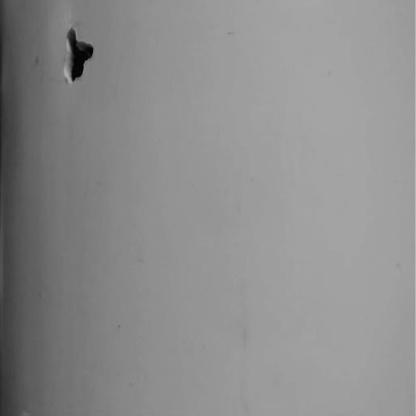kongdong: (53, 20, 106, 84)
